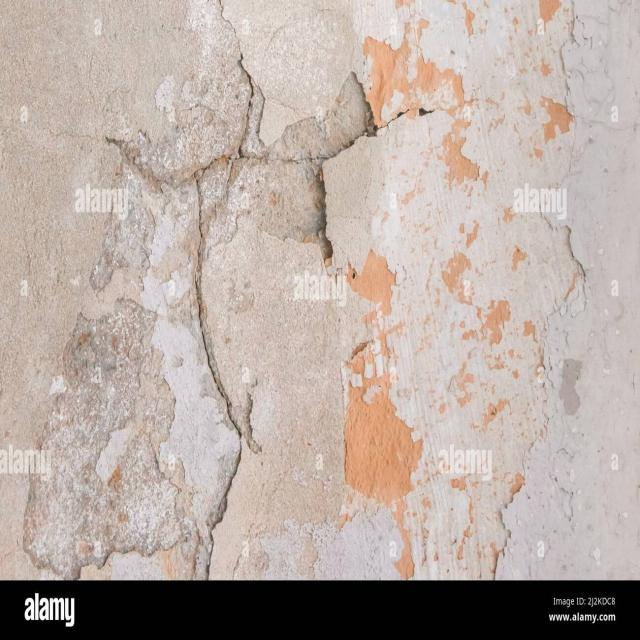Paint peeling: (345, 11, 576, 579)
Spalling: (23, 8, 376, 572)
